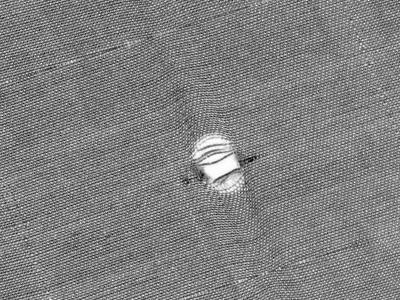hole: (187, 128, 251, 199)
